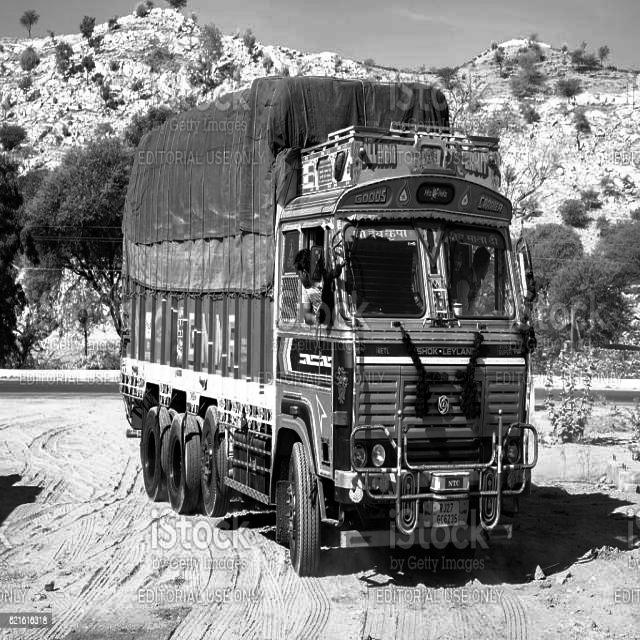HCV: (98, 55, 558, 582)
